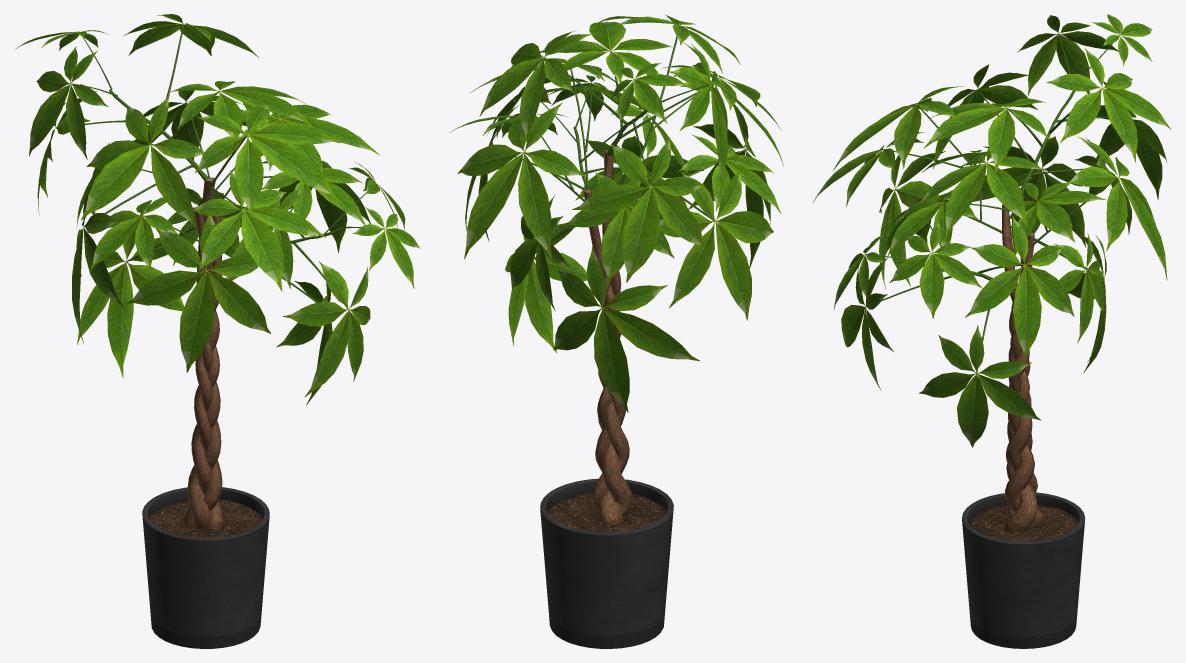
File: BP_RoomPlantsSet01_PakiraA.fbx
3 renders of one model, left to right at view 1: azimuth 30°, elevation 25°; view 2: azimuth 150°, elevation 25°; view 3: azimuth 270°, elevation 25°, orthographic. The views are drawn at different scales.
Visible parts, largest first — view 1: Ha, Ha_ura, Hachi, Miki, Tsuchi, Kuki; view 2: Ha, Ha_ura, Hachi, Miki, Kuki, Tsuchi; view 3: Ha, Ha_ura, Hachi, Miki, Kuki, Tsuchi.
Boxes of the visible parts, <box> form: Ha: <box>14,14,420,405</box>; Ha_ura: <box>21,14,418,404</box>; Hachi: <box>142,487,269,648</box>; Miki: <box>184,177,223,529</box>; Tsuchi: <box>149,499,262,537</box>; Kuki: <box>56,24,384,308</box>; Ha: <box>449,14,783,412</box>; Ha_ura: <box>457,16,781,411</box>; Hachi: <box>540,478,673,648</box>; Miki: <box>583,149,632,526</box>; Kuki: <box>515,36,745,307</box>; Tsuchi: <box>547,492,666,532</box>; Ha: <box>813,14,1171,447</box>; Ha_ura: <box>813,15,1169,445</box>; Hachi: <box>962,492,1085,648</box>; Miki: <box>1002,204,1044,531</box>; Kuki: <box>865,34,1119,372</box>; Tsuchi: <box>968,504,1078,541</box>.
Bounding box in the file's own units: 55.15 × 104 × 59.45.
